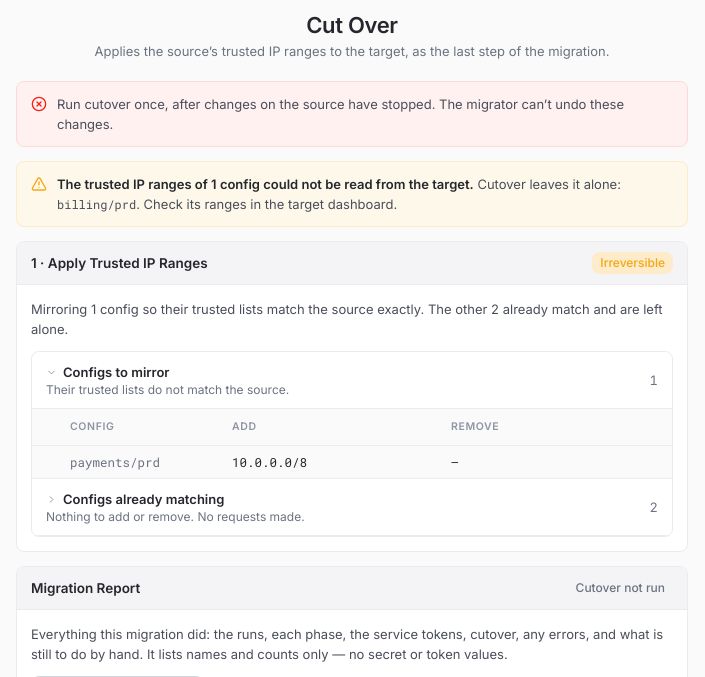
CutoverPage › lists the configs that already match, not just their count
The width and height of the screenshot is (705, 677).
Click the text "Configs already matching": [135, 499] box [46,491,224,507]
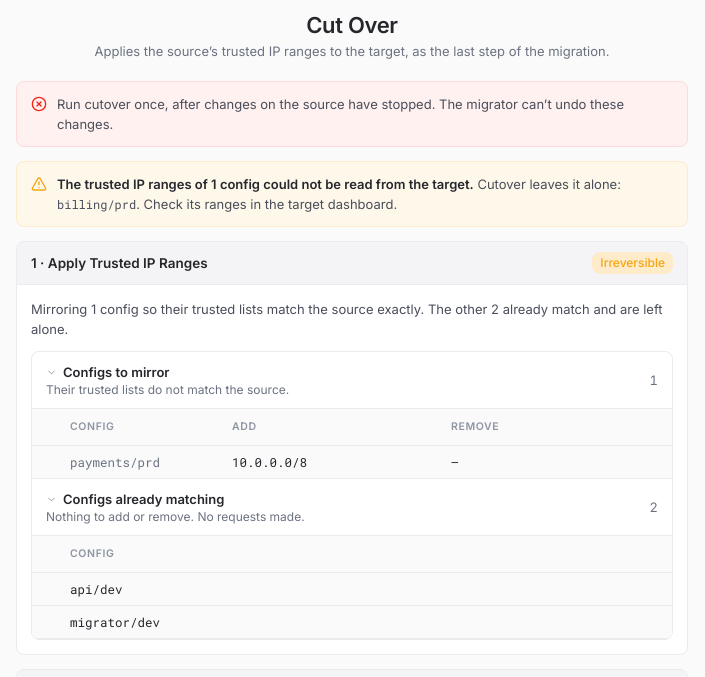
Expected: the text "could not be read from the target" is shown, [260,176,474,192]
Expected: the text "api/dev" is shown, [70,581,122,597]
Expected: the text "migrator/dev" is shown, [70,614,160,630]
